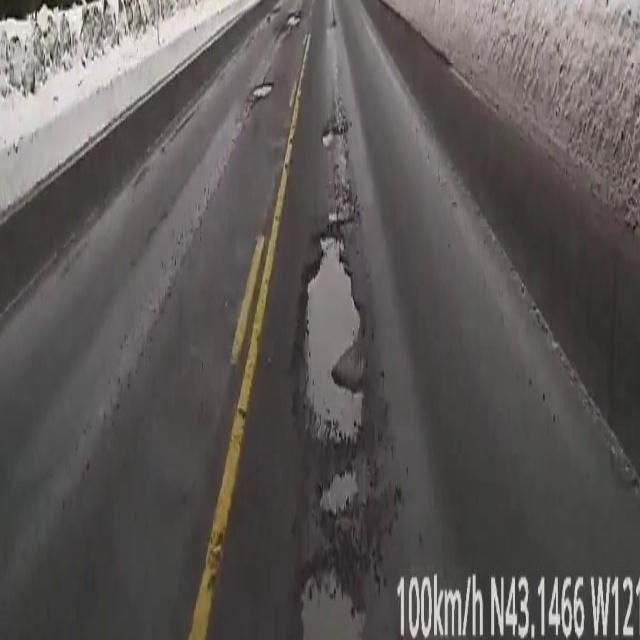pothole: (296, 394, 402, 558), (322, 117, 347, 148), (252, 78, 274, 104), (286, 13, 300, 32)
